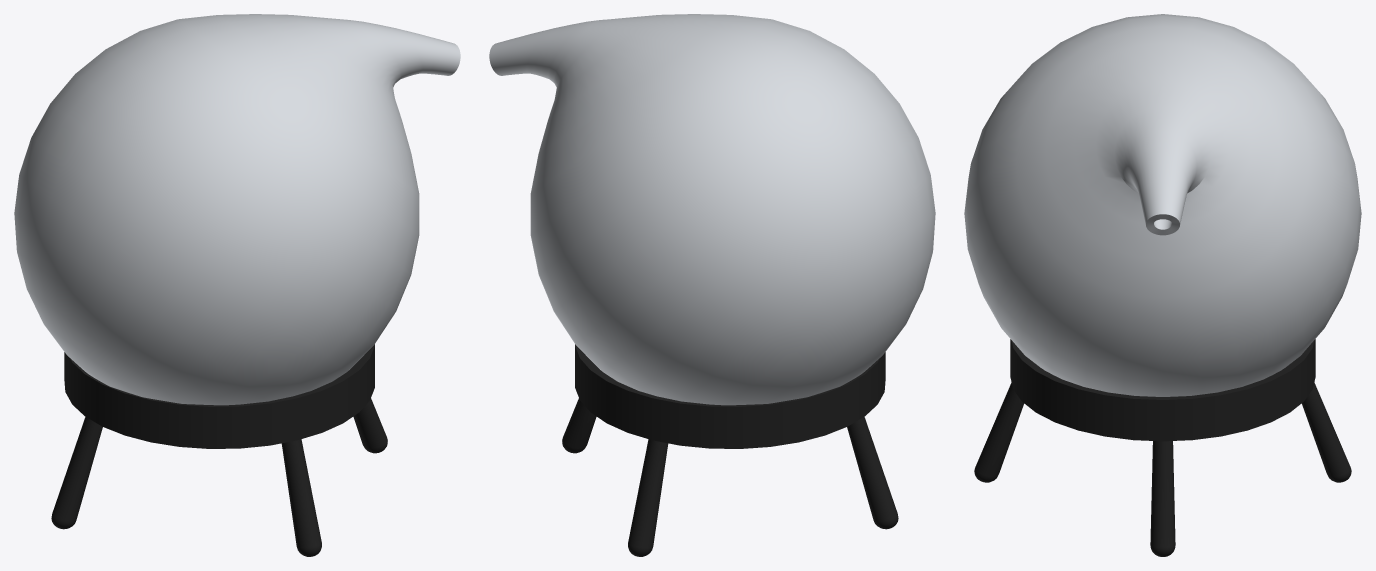
File: alembic.gltf
3 renders of one model, left to right at view 1: azimuth 30°, elevation 25°; view 2: azimuth 150°, elevation 25°; view 3: azimuth 270°, elevation 25°, orthographic.
Parts seen in each view (by area): view 1: Circle.2594; view 2: Circle.2594; view 3: Circle.2594.
Part boxes in pixels (x1=…): Circle.2594: x1=14, y1=14, x2=460, y2=556; Circle.2594: x1=489, y1=14, x2=935, y2=556; Circle.2594: x1=964, y1=14, x2=1361, y2=556.
Size of the model in its own units: 2.1 by 2.2 by 1.77.
Materials: 2 (1 with a texture image).
